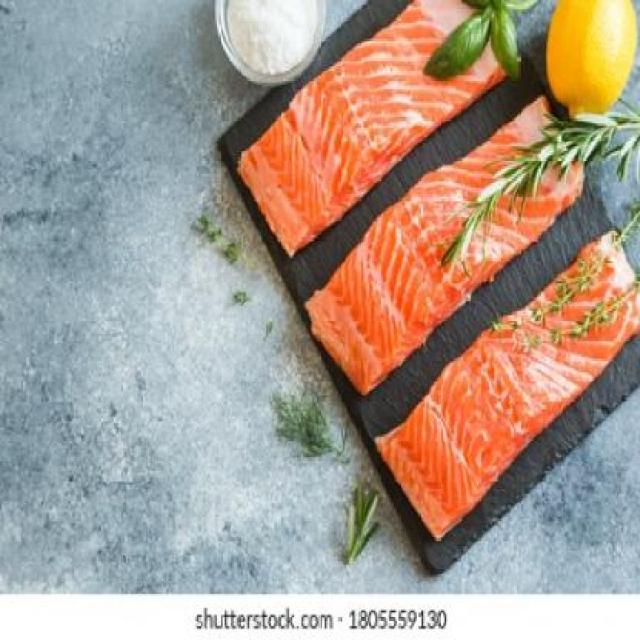salmon: (271, 89, 595, 398), (367, 224, 640, 542), (228, 3, 526, 262)
